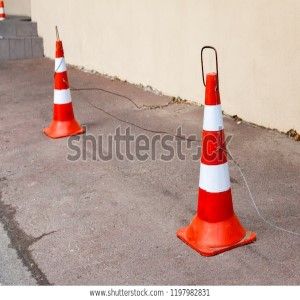traffic cone: (176, 73, 257, 257), (42, 40, 86, 140)
